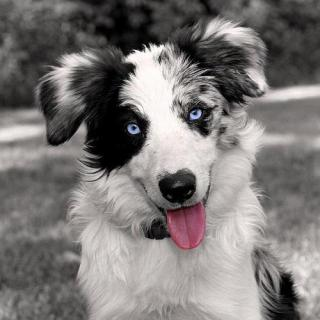dog: (44, 24, 280, 262)
nose: (156, 166, 200, 204)
